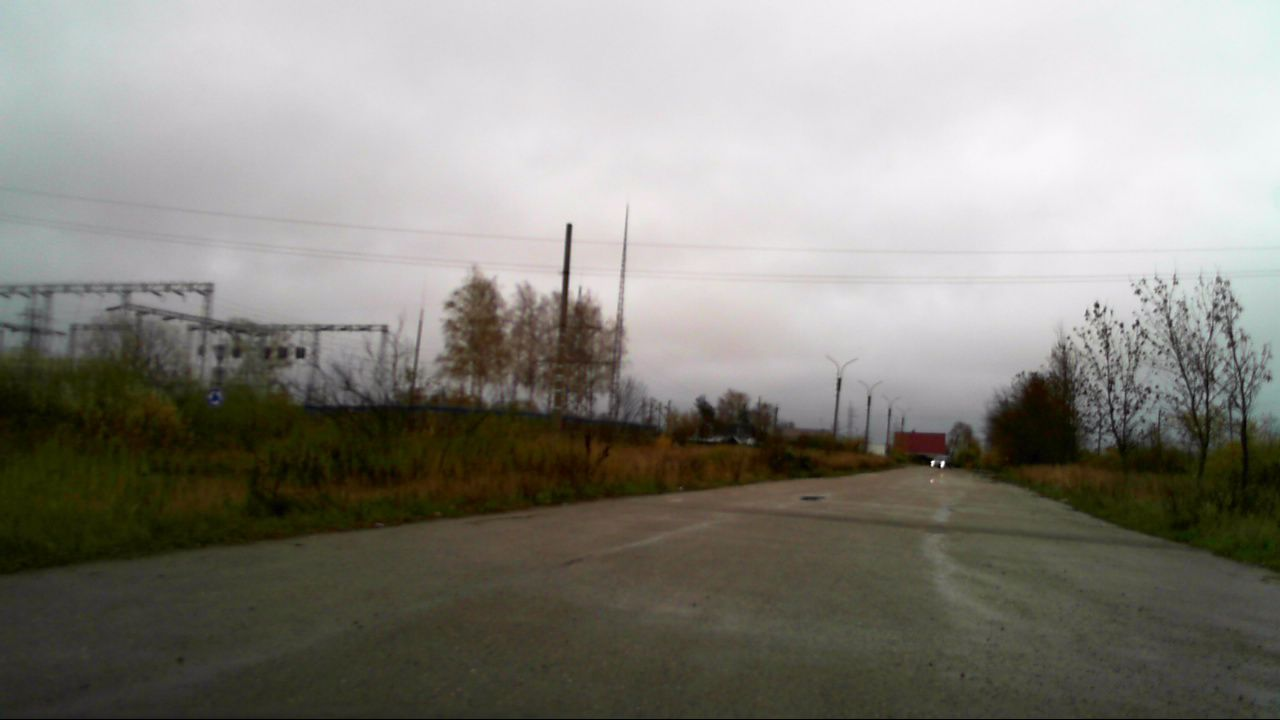Round-About: (205, 386, 226, 408)
